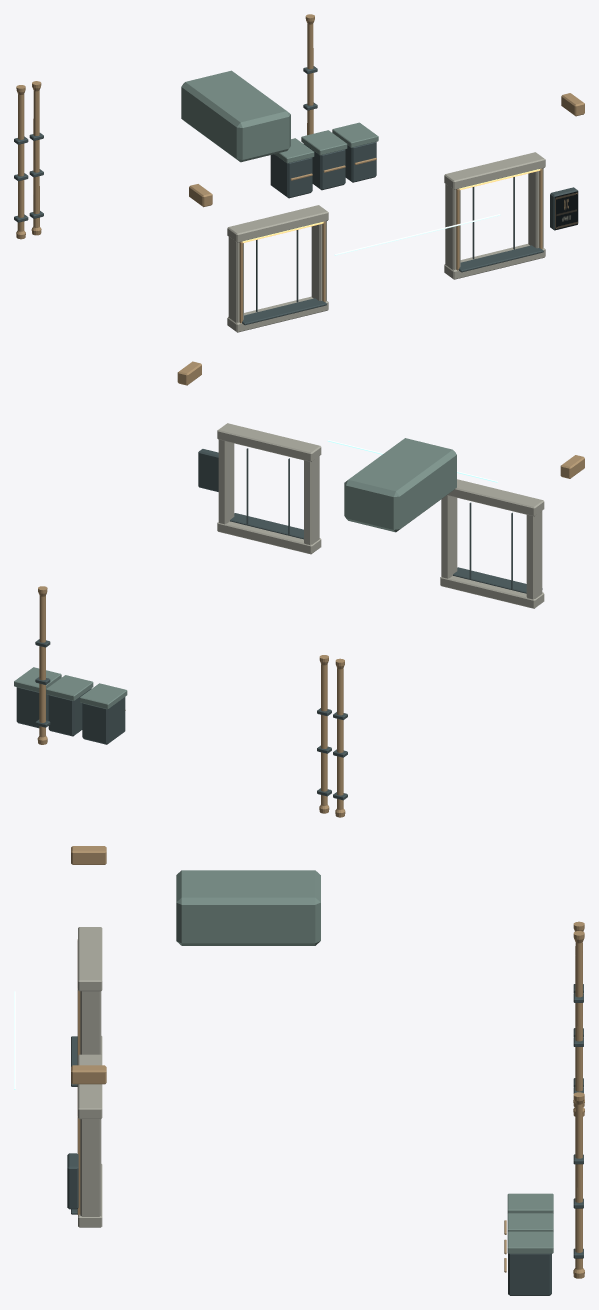
File: workshop-detailed.glb
3 renders of one model, top to bottom at view 1: azimuth 30°, elevation 25°; view 2: azimuth 150°, elevation 25°; view 3: azimuth 270°, elevation 25°, orthographic. The views are drawn at different scales.
Parts seen in each view (by area): view 1: workshop-detailed; view 2: workshop-detailed; view 3: workshop-detailed.
Boxes of the visible parts, x1=… form: workshop-detailed: x1=14, y1=14, x2=584, y2=332; workshop-detailed: x1=14, y1=361, x2=584, y2=817; workshop-detailed: x1=14, y1=846, x2=584, y2=1295.
Size of the model in its own units: 8.12 by 4.5 by 8.69.
Materials: 7 (1 with a texture image).
